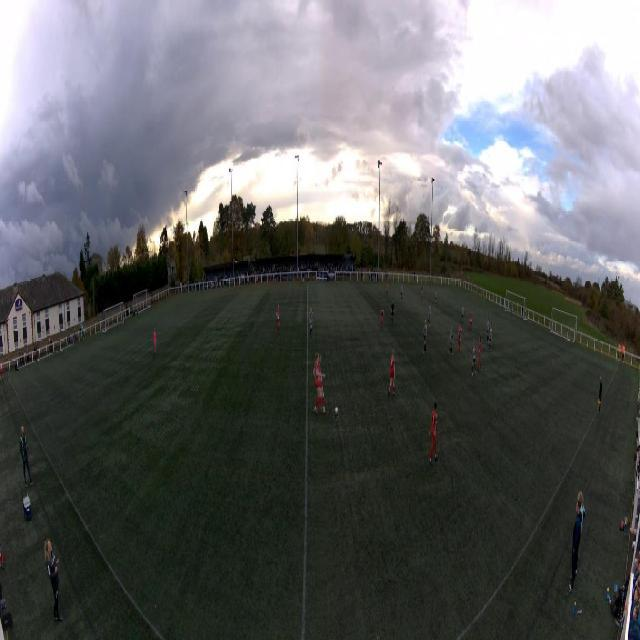ball: (334, 407, 338, 415)
player: (313, 349, 327, 416), (428, 400, 441, 466), (388, 348, 395, 400), (471, 341, 477, 377), (422, 320, 428, 354), (448, 326, 454, 357), (477, 337, 482, 369), (309, 308, 314, 338), (276, 304, 280, 335), (458, 325, 462, 356), (153, 327, 157, 355), (489, 325, 493, 353), (486, 317, 490, 344), (391, 299, 395, 325), (428, 302, 432, 328), (468, 310, 472, 334), (460, 304, 464, 326), (380, 309, 384, 329), (400, 283, 403, 301), (435, 289, 437, 308), (421, 285, 423, 302), (511, 301, 513, 318), (386, 279, 388, 295)
